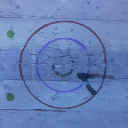Axe Tip: (83, 73, 95, 78)
